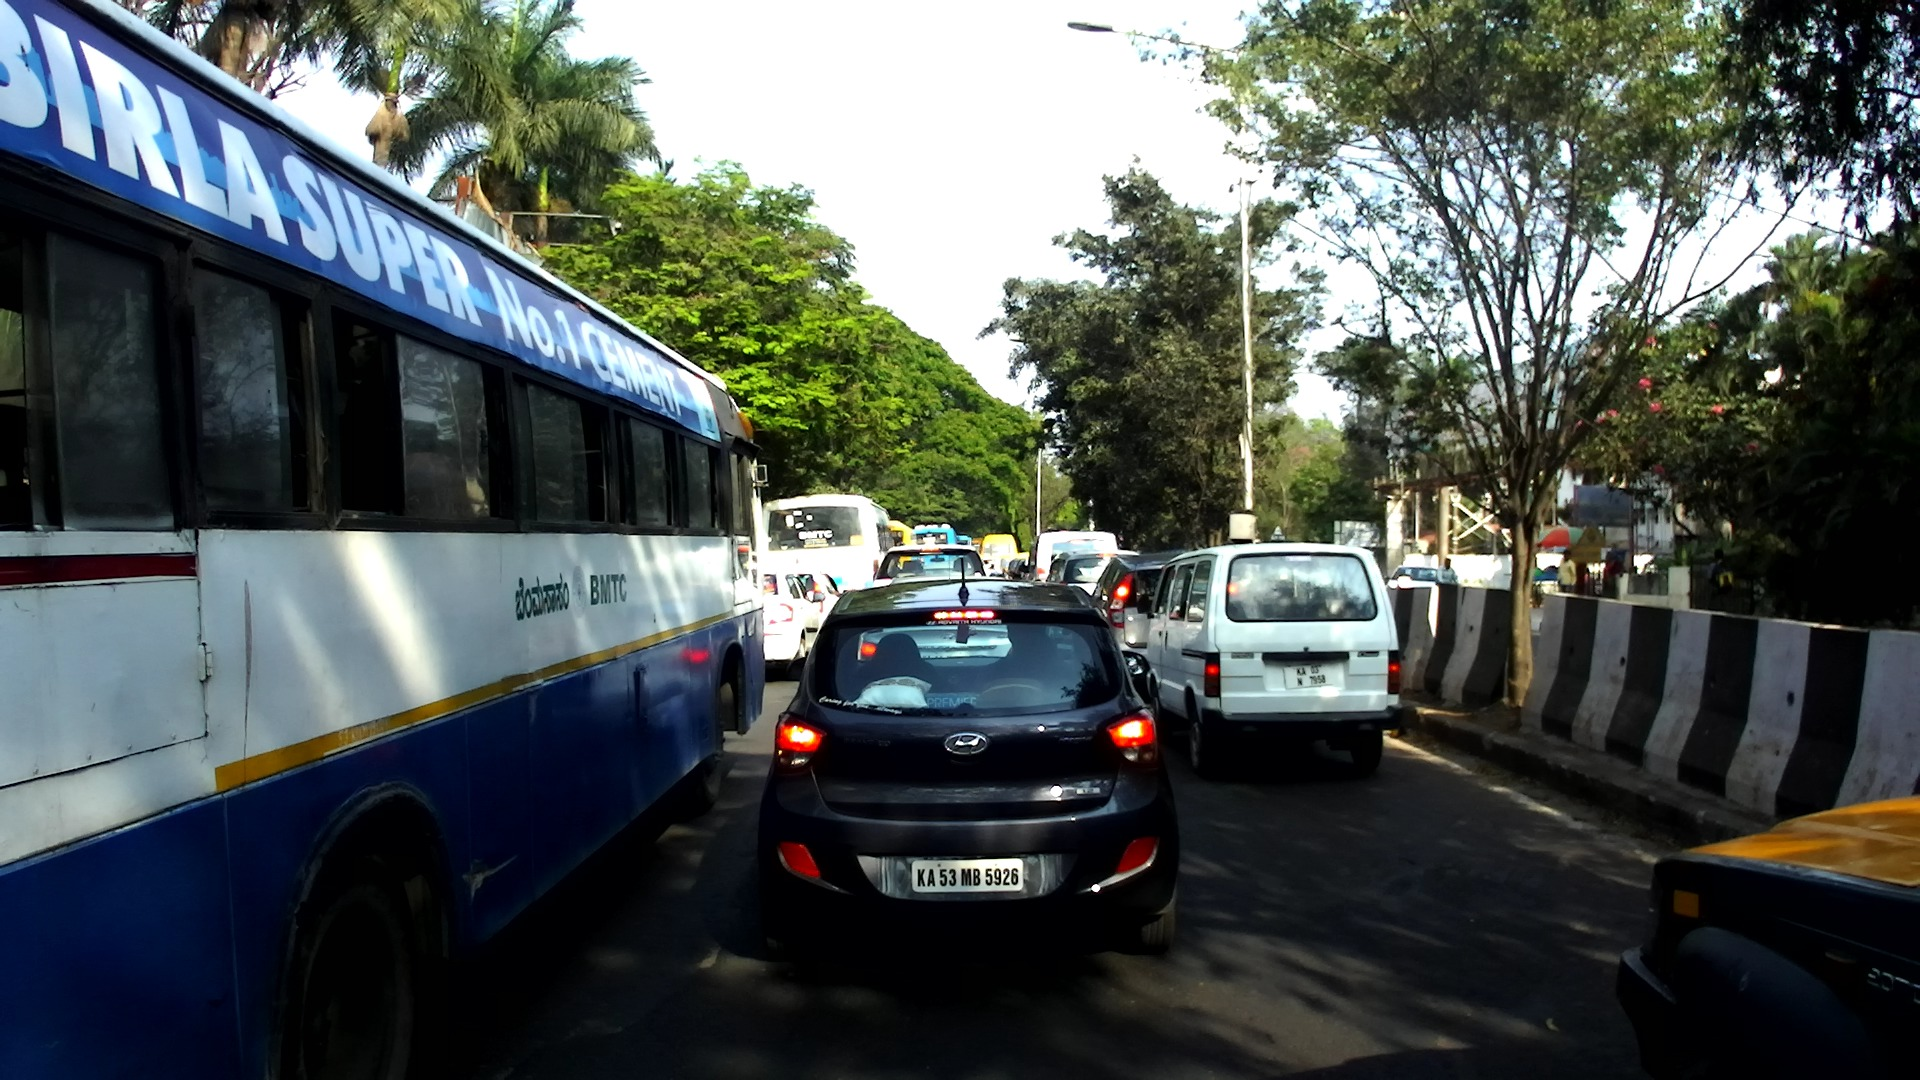bus: (1, 1, 769, 1078), (761, 494, 902, 601), (981, 534, 1018, 575), (913, 523, 958, 550), (888, 519, 913, 555), (953, 534, 973, 550), (967, 538, 982, 553)
car: (757, 557, 1180, 958), (1137, 541, 1403, 774), (1091, 555, 1187, 704), (758, 567, 826, 681), (874, 545, 985, 589), (1031, 530, 1118, 584), (1046, 549, 1145, 595), (793, 566, 846, 648), (1386, 563, 1441, 588), (1002, 557, 1030, 580)
person: (1707, 549, 1736, 613), (1603, 543, 1620, 597), (1556, 549, 1575, 595)
rider: (1435, 557, 1458, 585)
vehicle fallback: (1617, 794, 1920, 1080)
